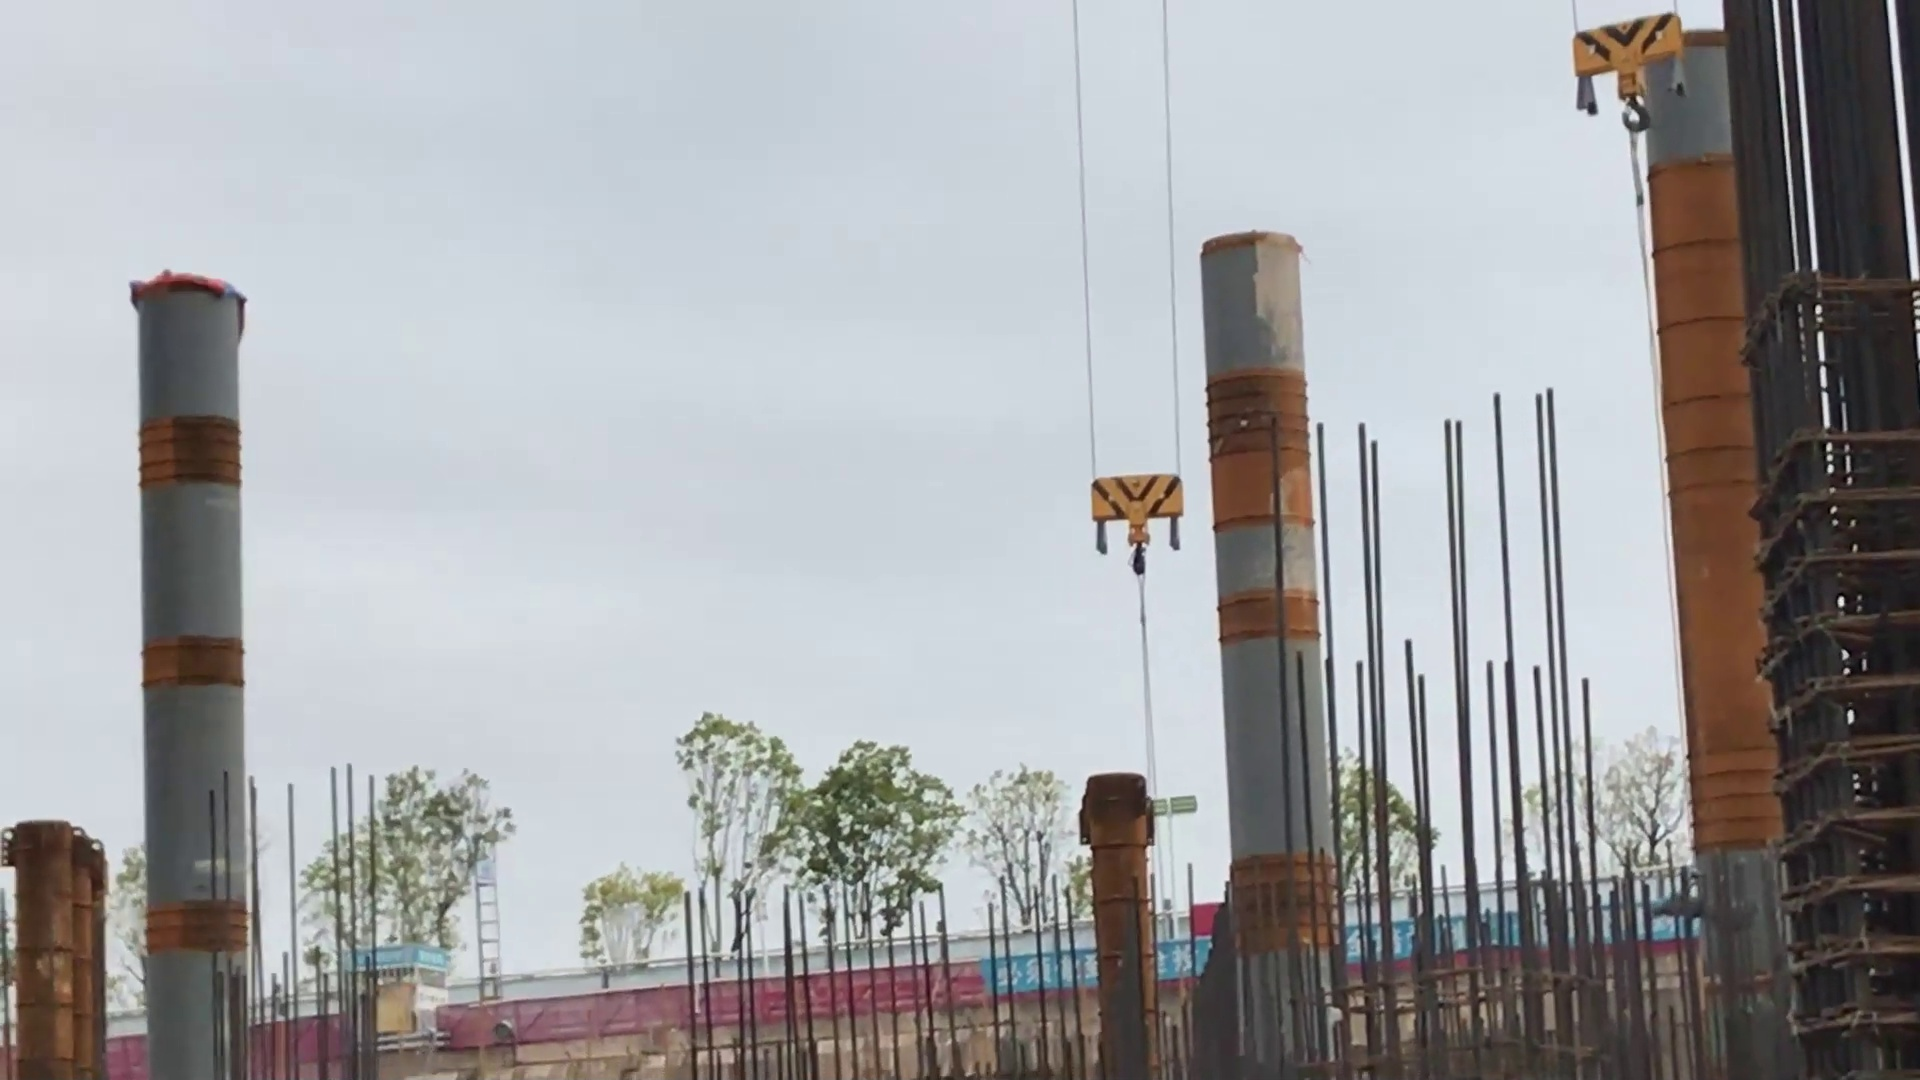fence: (15, 878, 1718, 1080)
hook: (1556, 18, 1687, 144), (1081, 463, 1180, 582)
slogan: (989, 902, 1698, 993)
